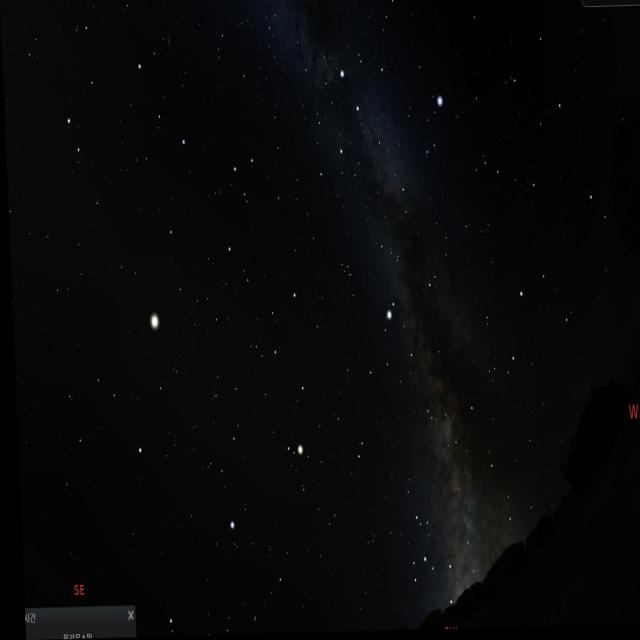aquila: (353, 304, 440, 428)
cygnus: (333, 68, 406, 209)
lyra: (416, 95, 451, 169)
